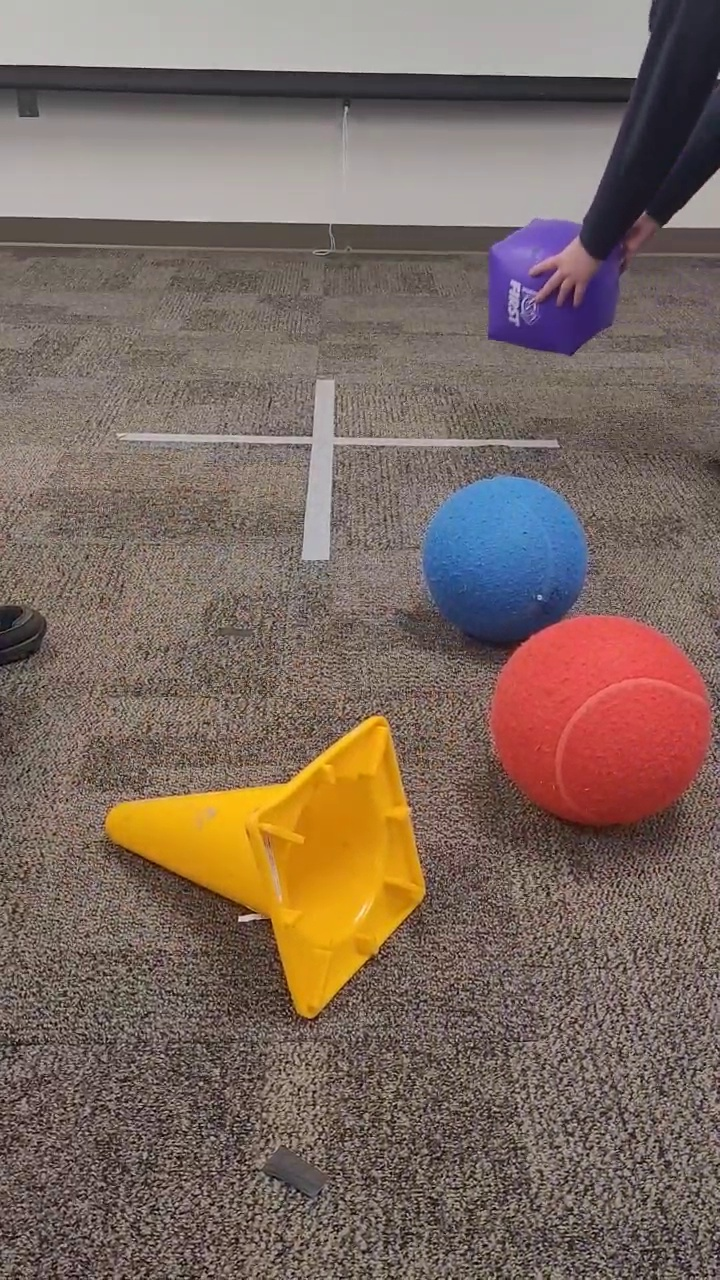ball: (487, 611, 714, 830), (420, 474, 589, 642)
cone: (98, 710, 430, 1024)
cube: (484, 214, 623, 358)
foot: (1, 599, 51, 670)
hand: (523, 232, 603, 314), (618, 201, 657, 262)
